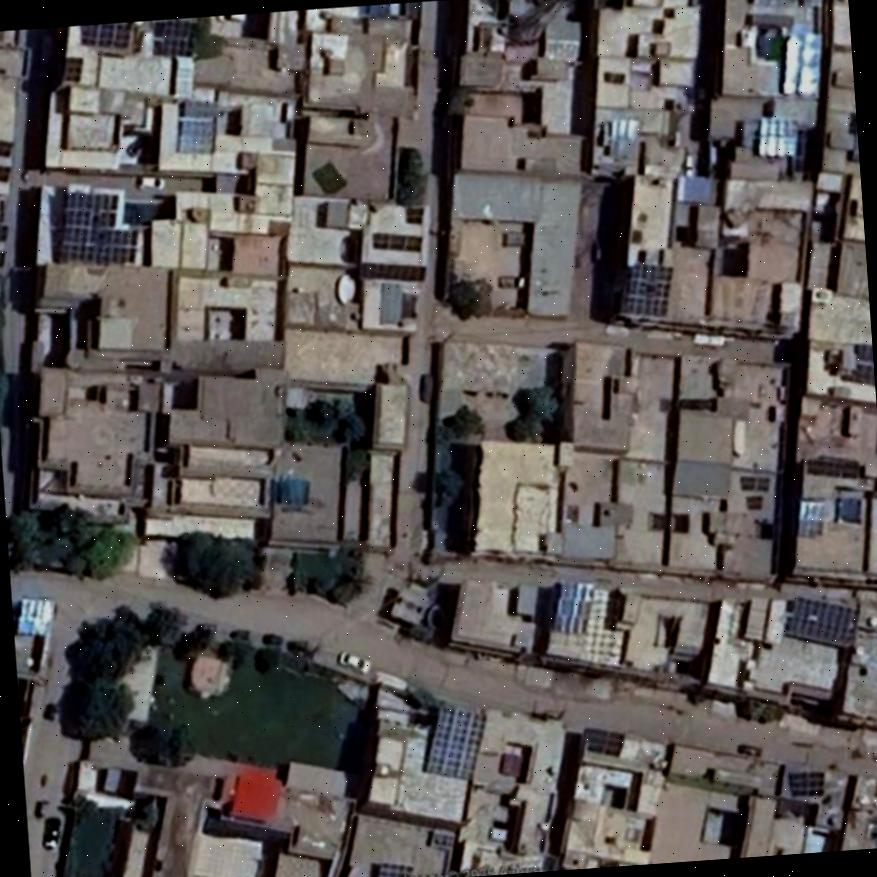Solarpanel: (59, 191, 139, 259), (424, 706, 483, 775), (789, 597, 856, 643), (619, 263, 673, 315), (179, 100, 216, 153), (756, 114, 797, 158), (159, 20, 199, 55), (79, 21, 129, 45), (586, 727, 624, 754), (360, 264, 423, 280), (789, 772, 822, 796), (372, 234, 418, 250), (376, 859, 413, 877), (0, 165, 10, 181), (0, 141, 10, 154), (0, 225, 8, 241)
